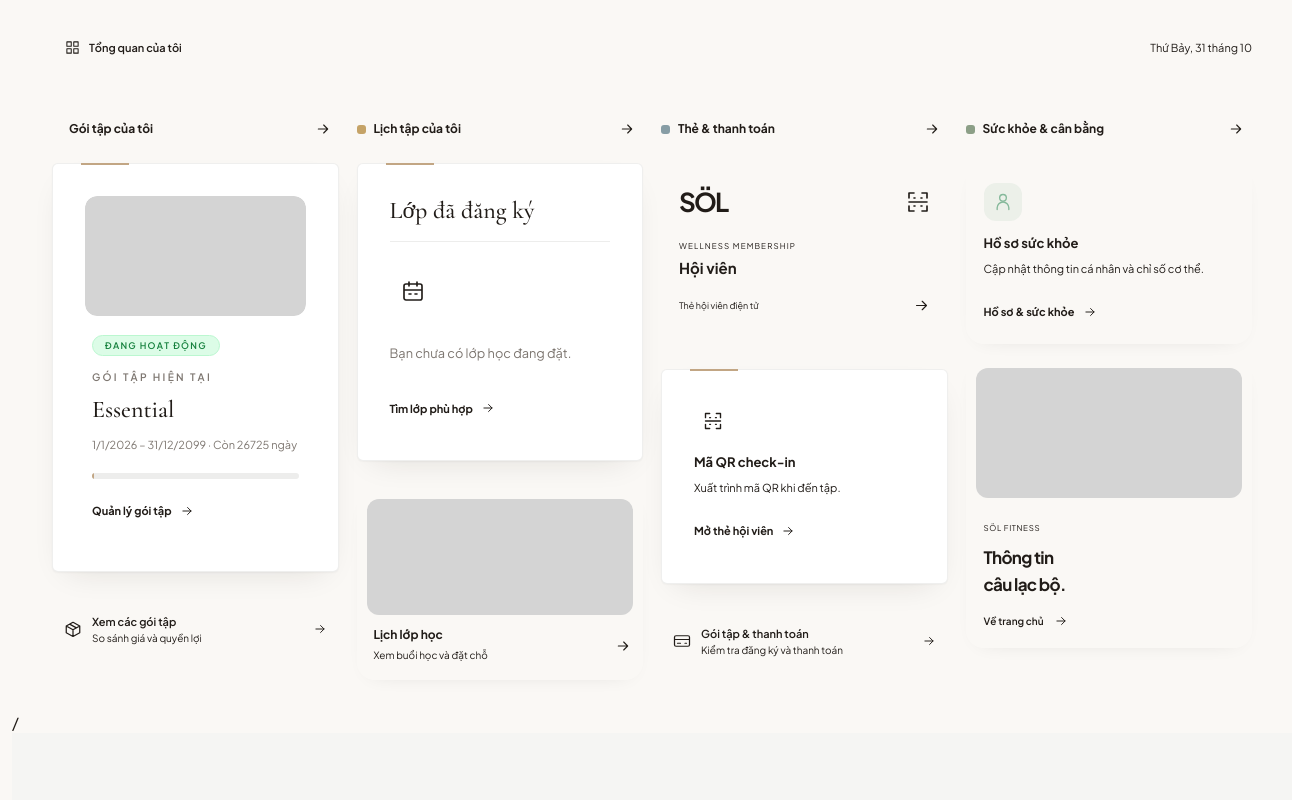
Test case: SCRUM-85 dashboard › opens Digital Card from the member cards and supports keyboard focus
Click the link with class "member-board-info". click: (745, 462)
box: [661,369,948,584]
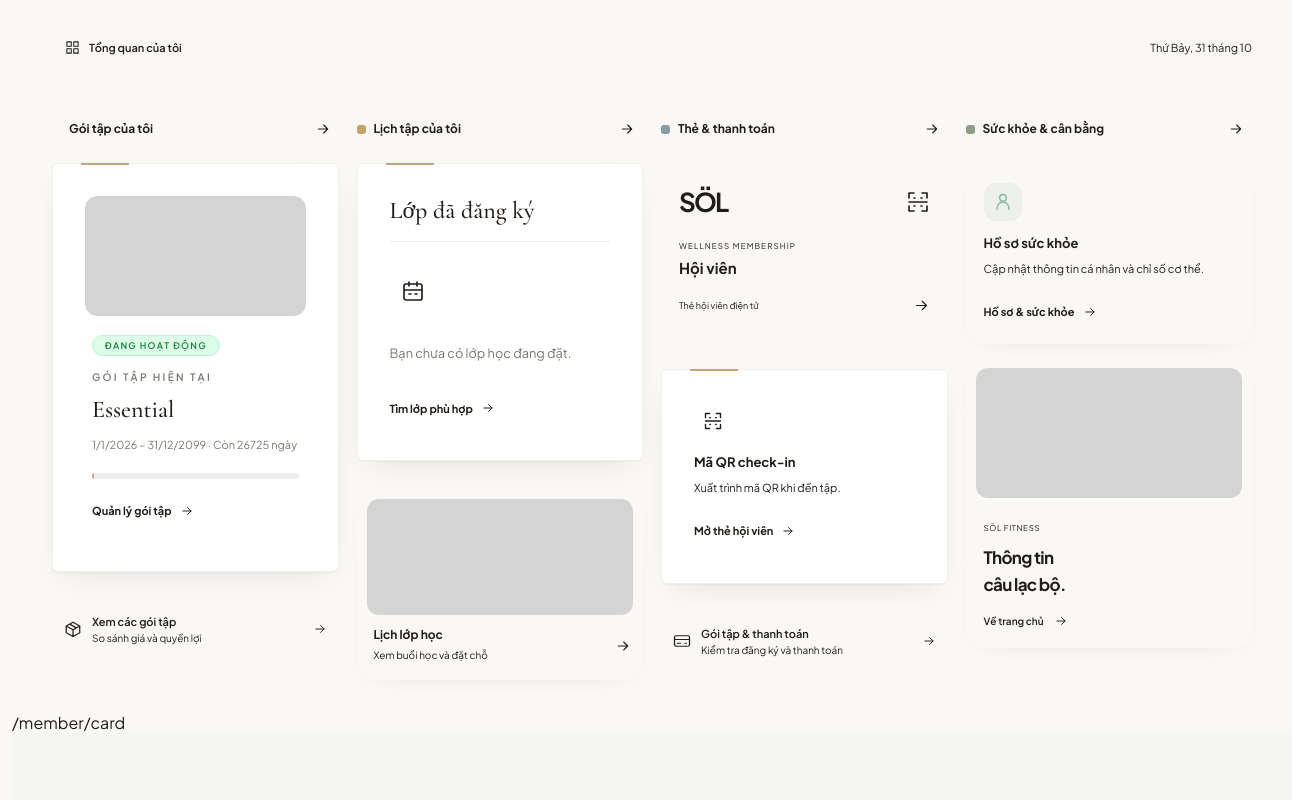
Expected: the text with test id "location" reads "/member/card", [12,712,125,733]
